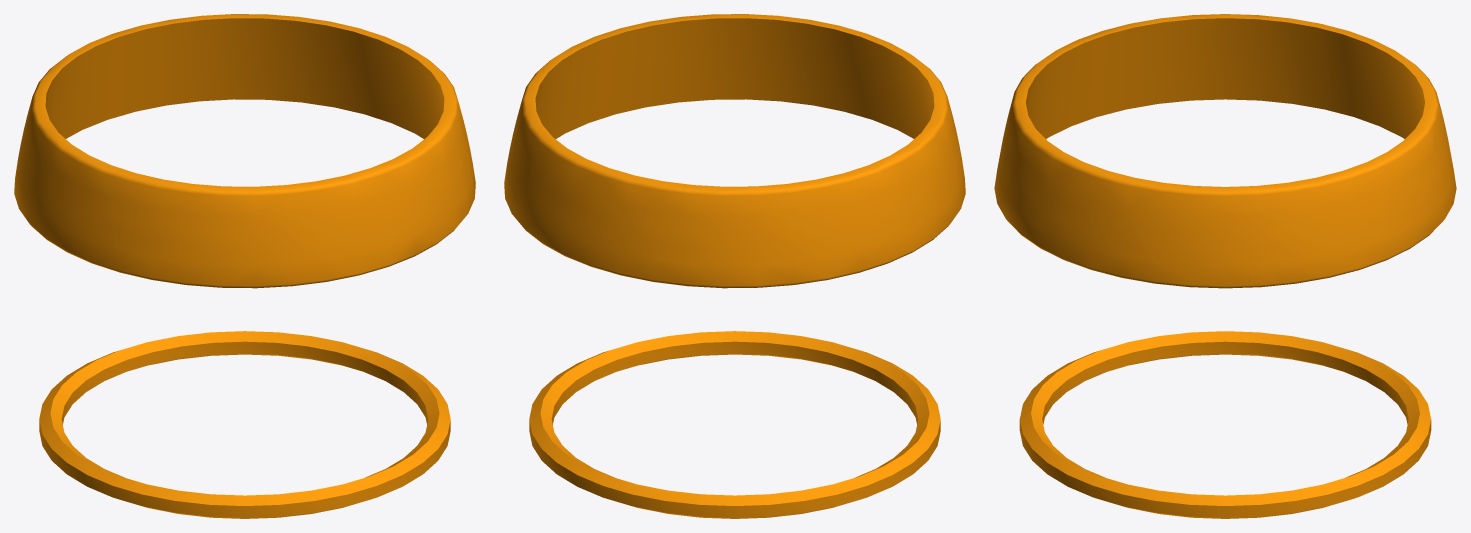
File: EV_BombStripe.obj
3 renders of one model, left to right at view 1: azimuth 30°, elevation 25°; view 2: azimuth 150°, elevation 25°; view 3: azimuth 270°, elevation 25°, orthographic.
Parts seen in each view (by area): view 1: EV_BombStripe; view 2: EV_BombStripe; view 3: EV_BombStripe.
Part boxes in pixels (x1=…): EV_BombStripe: x1=14, y1=14, x2=475, y2=518; EV_BombStripe: x1=504, y1=14, x2=965, y2=518; EV_BombStripe: x1=994, y1=14, x2=1456, y2=518.
Size of the model in its own units: 1.5 by 1.2 by 1.5.
